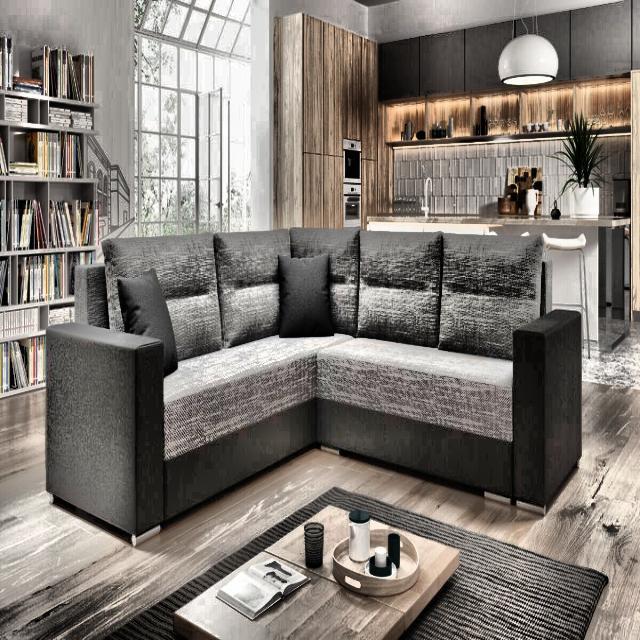sofa: (45, 225, 582, 546)
